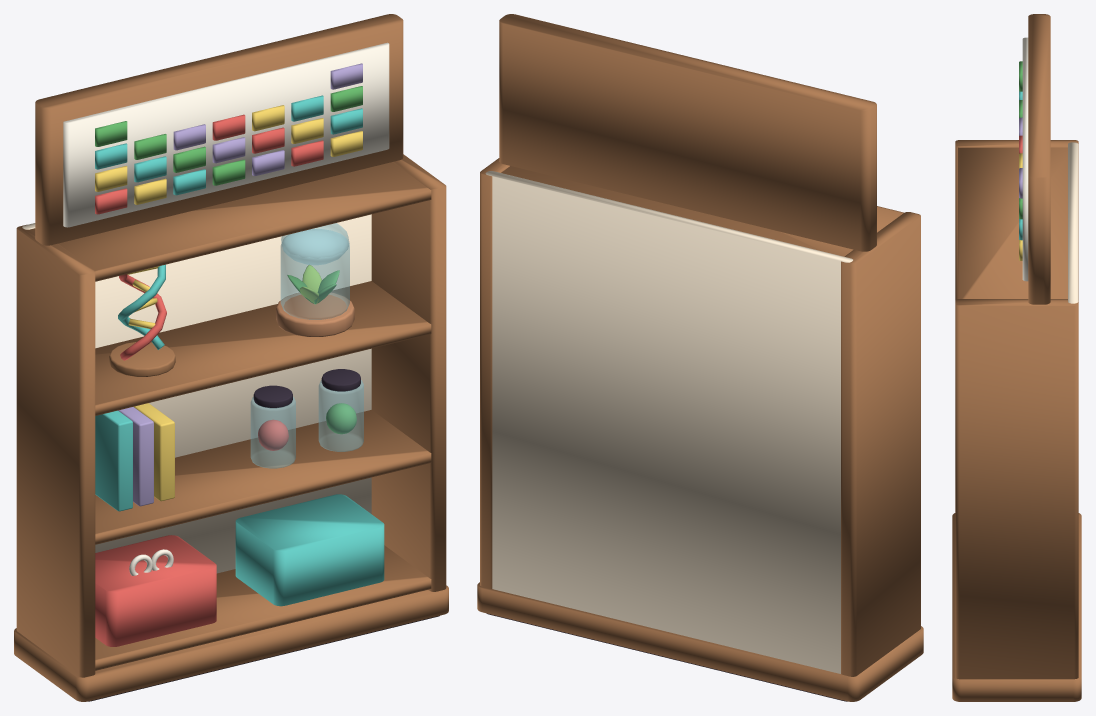
Rendered from science-display-shelf.glb.
3 views of the same model, side by side, from view 1: azimuth 30°, elevation 25°; view 2: azimuth 150°, elevation 25°; view 3: azimuth 270°, elevation 25° (orthographic). The views are drawn at different scales.
Parts seen in each view (by area): view 1: LabScienceShelf_WoodCabinet, LabScienceShelf_CreamBack, LabScienceShelf_CreamChartAndGoggles, LabScienceShelf_TurquoiseDNAAndCrates, LabScienceShelf_CoralDNAAndCrates, LabScienceShelf_GlassTerrariumAndJars, LabScienceShelf_ButterDNARungs, LabScienceShelf_LavenderBinder, LabScienceShelf_LeafGreenPlants, LabScienceShelf_TerracottaDish, LabScienceShelf_SlatePadsAndLids; view 2: LabScienceShelf_CreamBack, LabScienceShelf_WoodCabinet; view 3: LabScienceShelf_WoodCabinet, LabScienceShelf_CreamBack, LabScienceShelf_CreamChartAndGoggles, LabScienceShelf_LeafGreenPlants.
Boxes of the visible parts, x1,y1,x2,y2 form: LabScienceShelf_WoodCabinet: (14, 14, 448, 701); LabScienceShelf_CreamBack: (22, 214, 371, 573); LabScienceShelf_CreamChartAndGoggles: (63, 42, 389, 575); LabScienceShelf_TurquoiseDNAAndCrates: (95, 95, 384, 606); LabScienceShelf_CoralDNAAndCrates: (95, 114, 323, 646); LabScienceShelf_GlassTerrariumAndJars: (250, 223, 363, 468); LabScienceShelf_ButterDNARungs: (95, 105, 362, 501); LabScienceShelf_LavenderBinder: (118, 63, 362, 506); LabScienceShelf_LeafGreenPlants: (95, 86, 362, 434); LabScienceShelf_TerracottaDish: (276, 293, 354, 336); LabScienceShelf_SlatePadsAndLids: (88, 369, 439, 701); LabScienceShelf_CreamBack: (485, 171, 852, 673); LabScienceShelf_WoodCabinet: (477, 14, 923, 701); LabScienceShelf_WoodCabinet: (952, 14, 1081, 701); LabScienceShelf_CreamBack: (1068, 142, 1078, 303); LabScienceShelf_CreamChartAndGoggles: (1022, 37, 1028, 281); LabScienceShelf_LeafGreenPlants: (1019, 61, 1022, 219).
Bounding box in the file's own units: 1.42 × 2.06 × 0.46.
